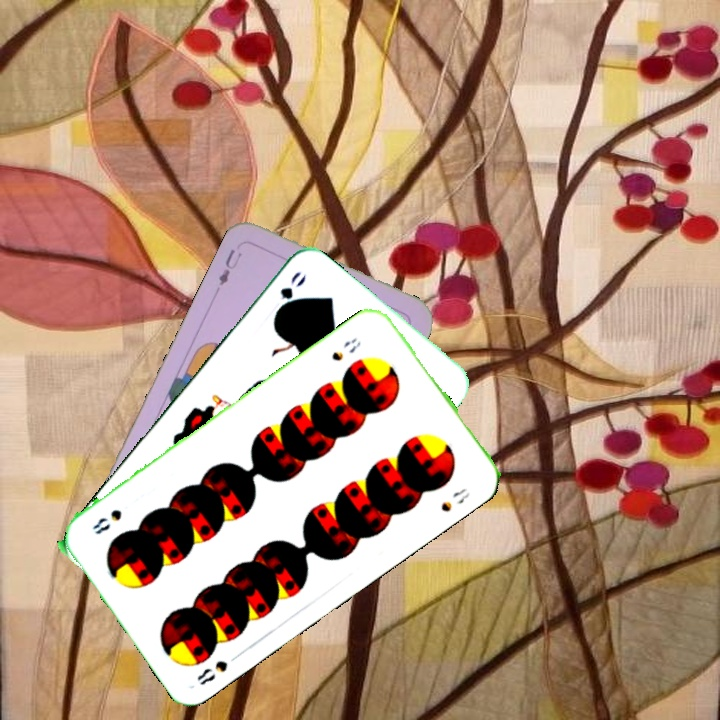EU: (214, 245, 244, 289)
GO: (269, 267, 309, 321)
S8: (193, 649, 244, 688), (327, 333, 364, 364)
